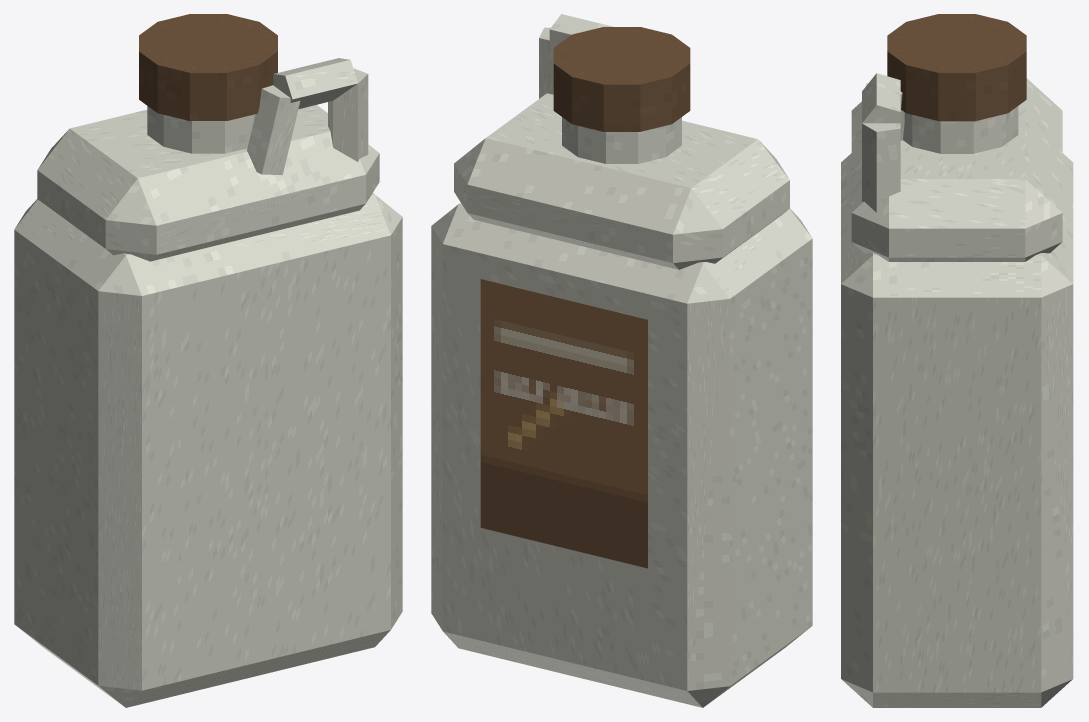
The model's file is jug_plastic_1892ml.glb.
3 renders of one model, left to right at view 1: azimuth 30°, elevation 25°; view 2: azimuth 150°, elevation 25°; view 3: azimuth 270°, elevation 25°, orthographic.
Parts seen in each view (by area): view 1: block_moulded jug, block_sloping jug shoulder, block_ribbed closure, block_neck, block_open carry handle 3, block_open carry handle 2, block_open carry handle 1; view 2: block_moulded jug, block_label, block_sloping jug shoulder, block_ribbed closure, block_neck, block_open carry handle 2, block_open carry handle 1; view 3: block_moulded jug, block_sloping jug shoulder, block_ribbed closure, block_neck, block_open carry handle 1, block_open carry handle 2.
Part boxes in pixels (x1,y1,x2,y2): block_moulded jug: (14, 193, 402, 707); block_sloping jug shoulder: (37, 105, 379, 261); block_ribbed closure: (139, 14, 277, 120); block_neck: (147, 106, 255, 153); block_open carry handle 3: (247, 85, 300, 175); block_open carry handle 2: (273, 58, 357, 108); block_open carry handle 1: (328, 68, 368, 161); block_moulded jug: (431, 202, 812, 707); block_label: (480, 279, 647, 568); block_sloping jug shoulder: (454, 93, 789, 269); block_ribbed closure: (553, 27, 690, 131); block_neck: (562, 117, 681, 163); block_open carry handle 2: (549, 14, 613, 52); block_open carry handle 1: (539, 27, 553, 98); block_moulded jug: (841, 153, 1073, 707); block_sloping jug shoulder: (851, 78, 1062, 261); block_ribbed closure: (887, 14, 1026, 121); block_neck: (903, 106, 1018, 153); block_open carry handle 1: (862, 123, 900, 212); block_open carry handle 2: (862, 73, 900, 123).
Bounding box in the file's own units: 0.132 × 0.25 × 0.0878.
1 material, 1 textured.
